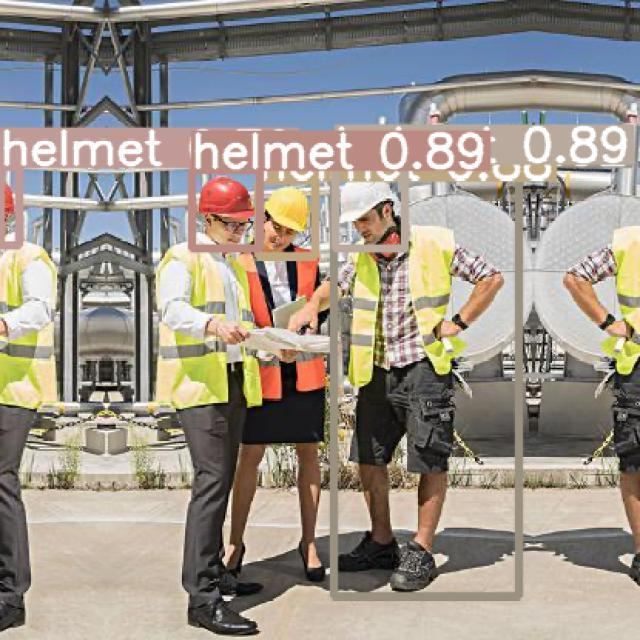helmet: (337, 180, 398, 224), (198, 176, 255, 222), (264, 186, 309, 232)
